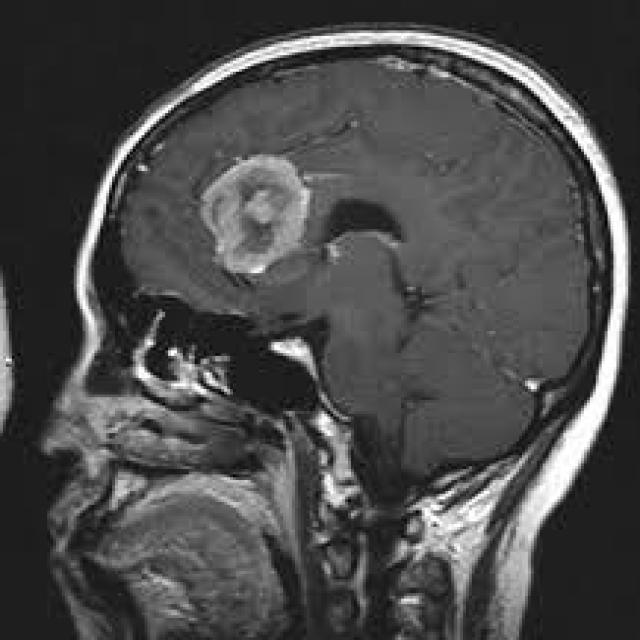Tumor: (201, 154, 313, 276)
